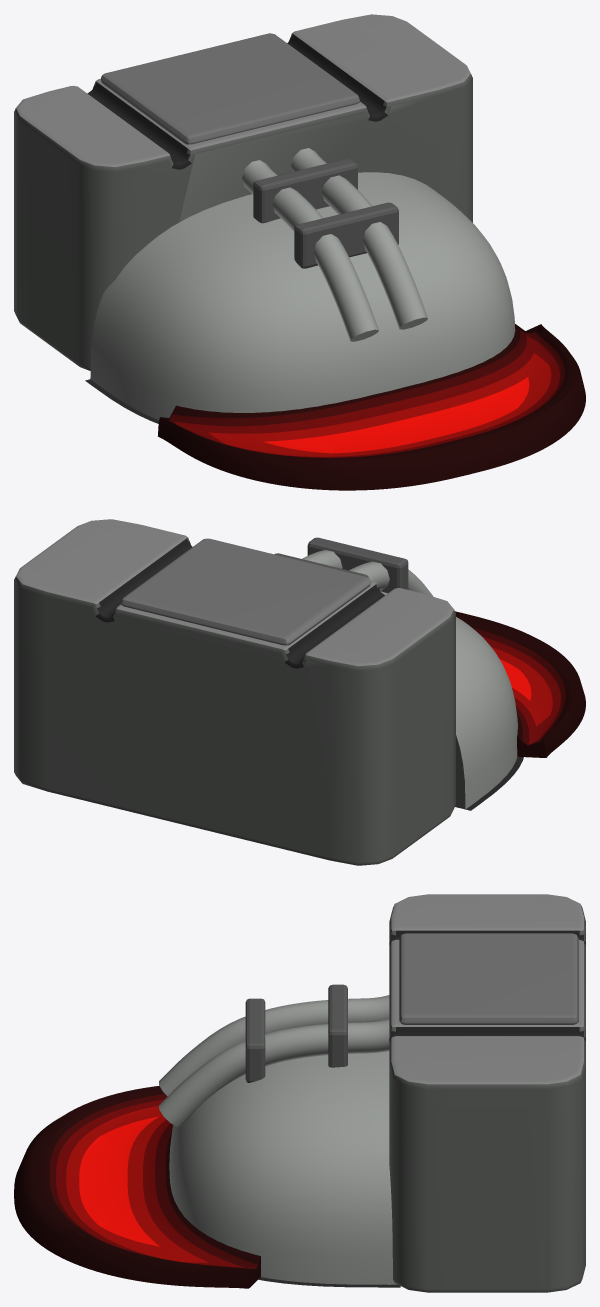
The model's file is vent_dome.glb.
3 views of the same model, one above another, from view 1: azimuth 30°, elevation 25°; view 2: azimuth 150°, elevation 25°; view 3: azimuth 270°, elevation 25° (orthographic). The views are drawn at different scales.
Visible parts, largest first — view 1: shield, head, vent, plate, pipe0, pipe1, strap1, strap0; view 2: head, plate, shield, vent, strap1, pipe0; view 3: head, shield, vent, plate, pipe1, pipe0, strap1, strap0.
Part boxes in pixels (x1=…): shield: x1=85, y1=172, x2=515, y2=423; head: x1=14, y1=14, x2=472, y2=370; vent: x1=158, y1=324, x2=585, y2=490; plate: x1=101, y1=33, x2=359, y2=144; pipe0: x1=242, y1=160, x2=378, y2=341; pipe1: x1=291, y1=148, x2=427, y2=329; strap1: x1=294, y1=202, x2=398, y2=268; strap0: x1=253, y1=159, x2=357, y2=223; head: x1=14, y1=519, x2=455, y2=865; plate: x1=121, y1=538, x2=370, y2=645; shield: x1=380, y1=591, x2=523, y2=810; vent: x1=455, y1=611, x2=585, y2=757; strap1: x1=307, y1=537, x2=408, y2=593; pipe0: x1=349, y1=561, x2=433, y2=596; head: x1=389, y1=894, x2=585, y2=1292; shield: x1=169, y1=1051, x2=400, y2=1287; vent: x1=14, y1=1086, x2=260, y2=1288; plate: x1=399, y1=933, x2=578, y2=1024; pipe1: x1=159, y1=1019, x2=389, y2=1127; pipe0: x1=159, y1=995, x2=389, y2=1096; strap1: x1=245, y1=998, x2=265, y2=1082; strap0: x1=328, y1=984, x2=347, y2=1067.
Size of the model in its own units: 16.28 by 8.5 by 20.08.
